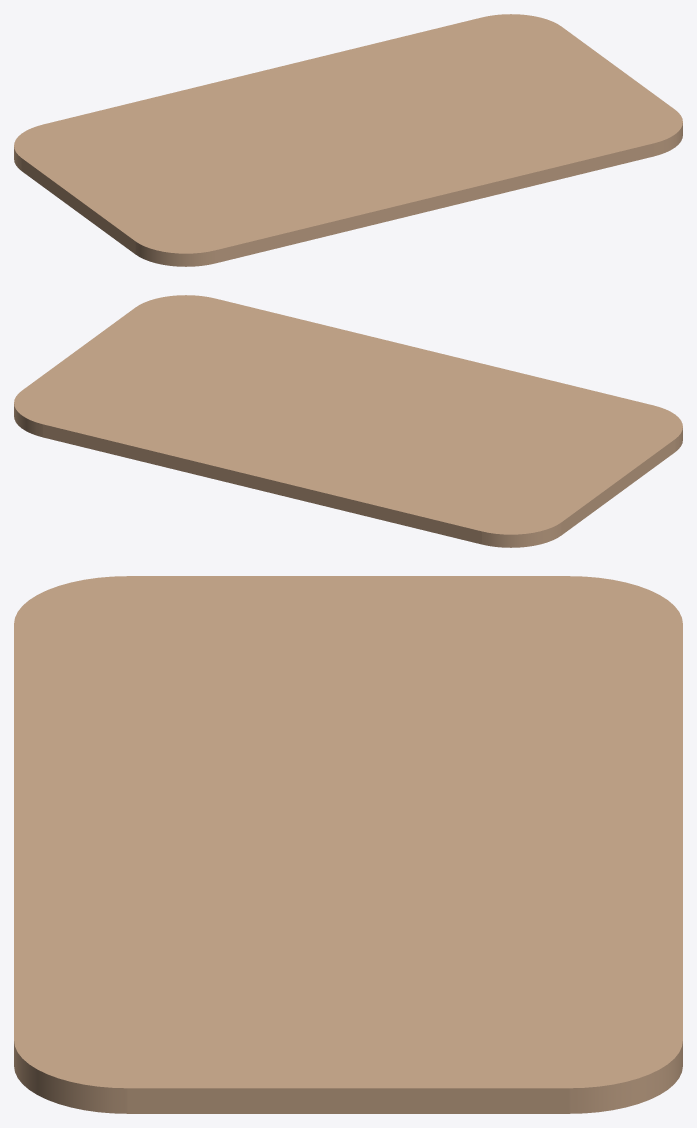
The model's file is rugDoormat.glb.
The picture shows the model from 3 angles, top to bottom: view 1: azimuth 30°, elevation 25°; view 2: azimuth 150°, elevation 25°; view 3: azimuth 270°, elevation 25°; orthographic projection. The views are drawn at different scales.
Visible parts, largest first — view 1: rugDoormat; view 2: rugDoormat; view 3: rugDoormat.
Part boxes in pixels (x1,y1,x2,y2): rugDoormat: (14, 14, 682, 266); rugDoormat: (14, 295, 682, 547); rugDoormat: (14, 576, 682, 1113).
Bounding box in the file's own units: 0.4293 × 0.01 × 0.237.
